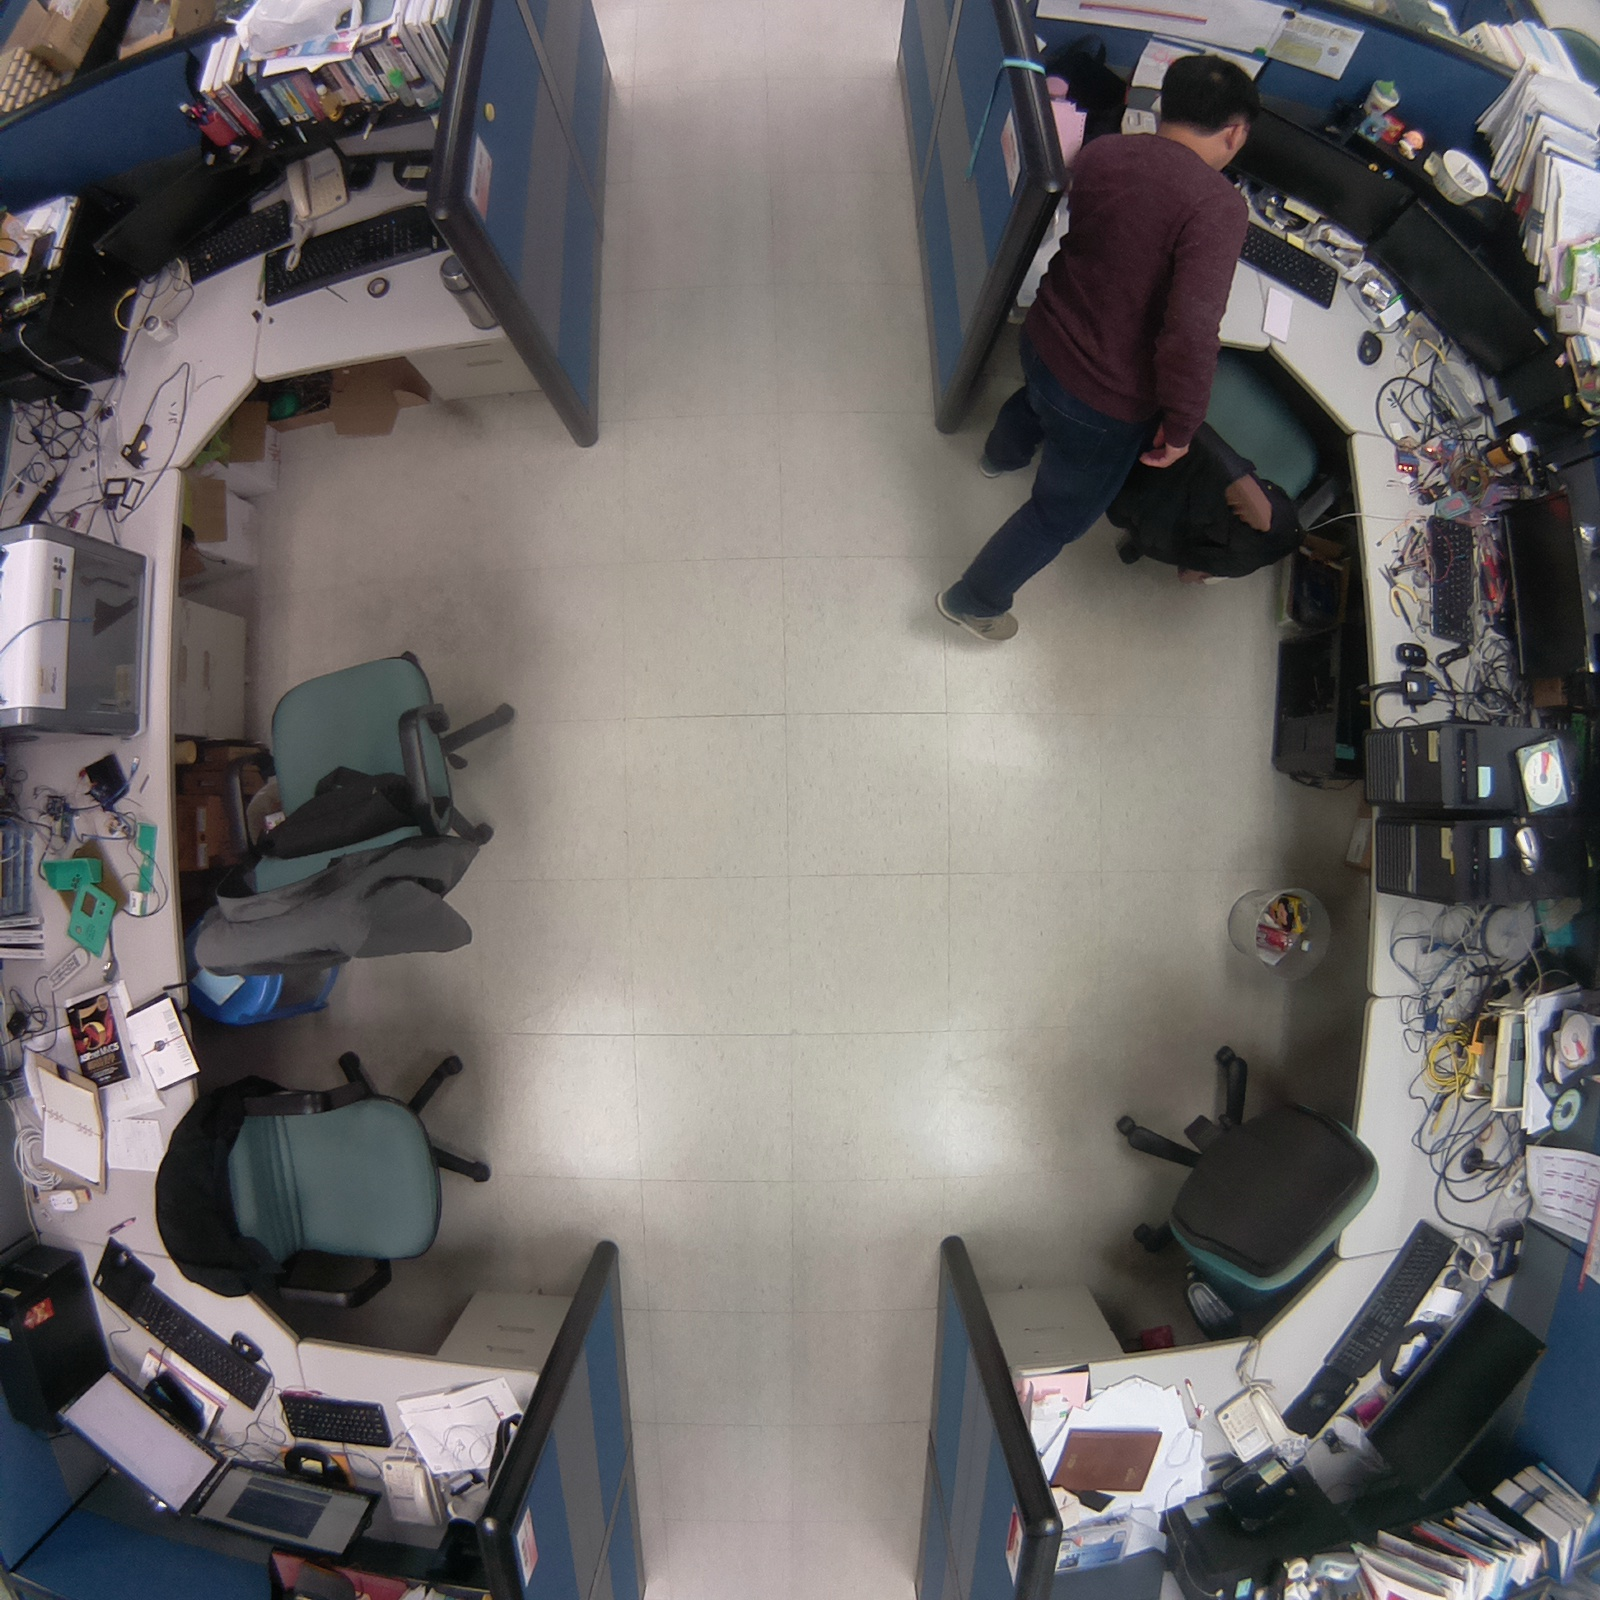chair: (173, 622, 553, 1001), (150, 1019, 509, 1327), (1096, 1024, 1391, 1345)
head: (1153, 42, 1263, 176)
standing: (924, 43, 1278, 660)
